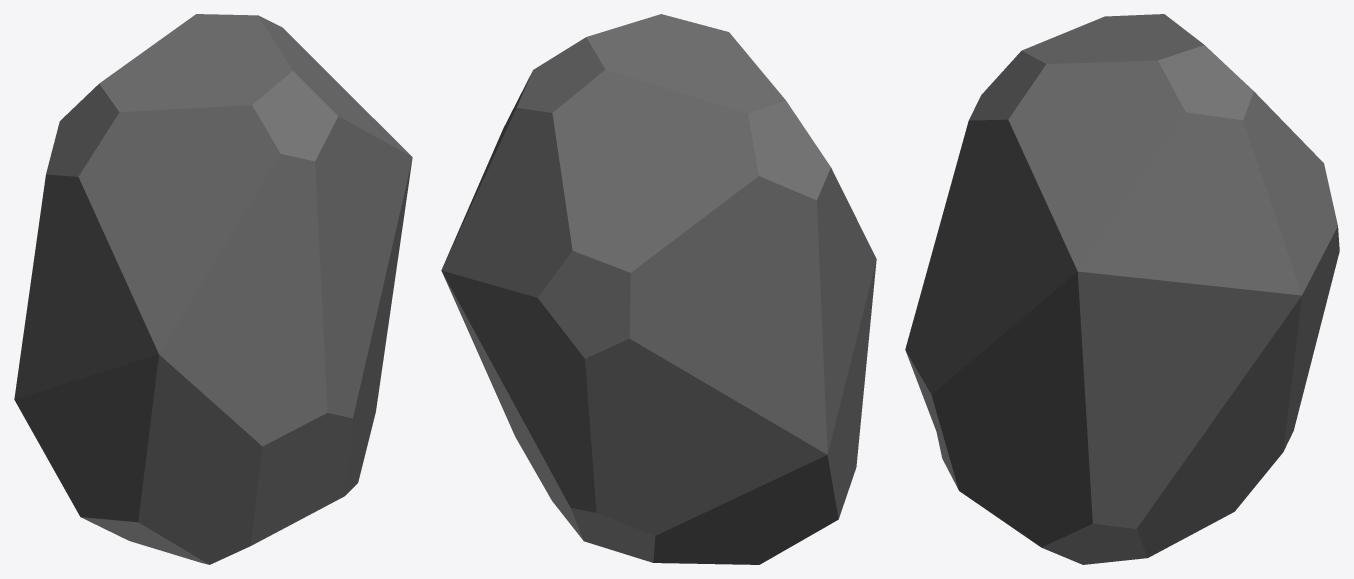
File: rock_2b_001.fbx
3 renders of one model, left to right at view 1: azimuth 30°, elevation 25°; view 2: azimuth 150°, elevation 25°; view 3: azimuth 270°, elevation 25°, orthographic. The views are drawn at different scales.
Visible parts, largest first — view 1: rock_2b.001; view 2: rock_2b.001; view 3: rock_2b.001.
Part boxes in pixels (x1=…): rock_2b.001: x1=14, y1=14, x2=412, y2=564; rock_2b.001: x1=441, y1=14, x2=876, y2=564; rock_2b.001: x1=905, y1=14, x2=1339, y2=564.
Size of the model in its own units: 321 by 422 by 324.
